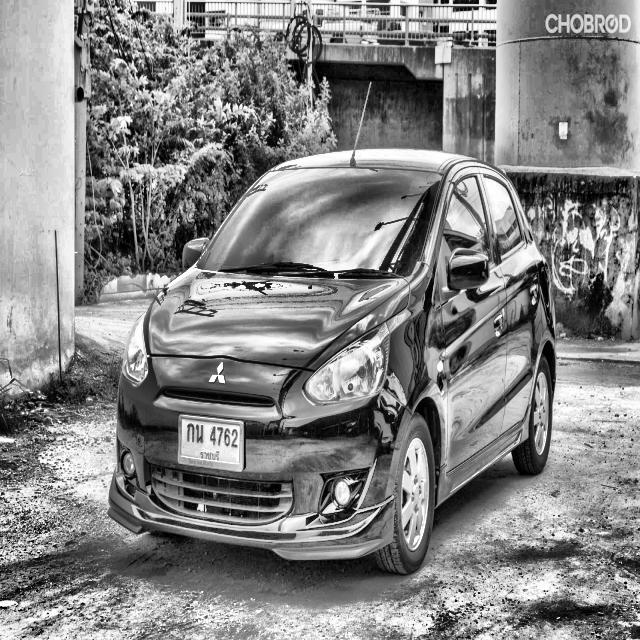license-plate: (177, 410, 246, 474)
